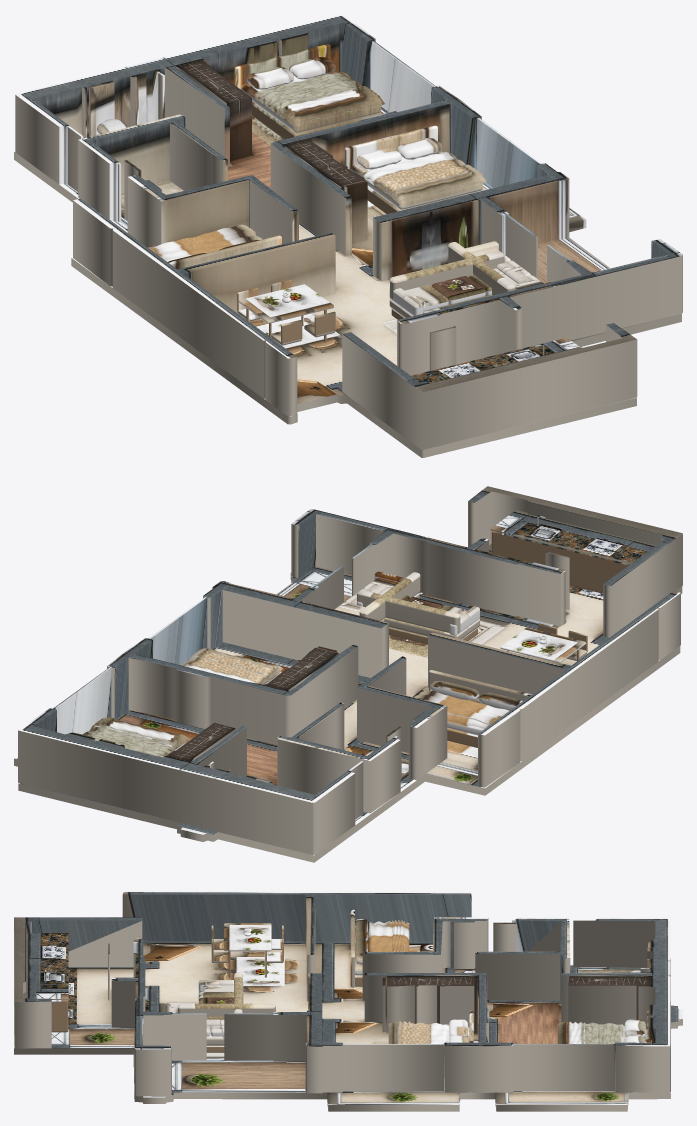
Rendered from p4-04-u04-2112-image-model.glb.
The picture shows the model from 3 angles, top to bottom: view 1: azimuth 30°, elevation 25°; view 2: azimuth 150°, elevation 25°; view 3: azimuth 270°, elevation 25°; orthographic projection. The views are drawn at different scales.
Parts seen in each view (by area): view 1: Partition walls, Apartment floor, Draped bed linen, Draped bed linen.002, Marble dining top, Sofa back, Stone worktop, Piped mattress, Draped bed linen.001, Upholstered headboard, Upholstered headboard.001, Piped mattress.001 (+12 smaller); view 2: Partition walls, Apartment floor, Kitchen cabinets, Stone worktop, Sofa back, Marble dining top, Draped bed linen, Draped bed linen.004, Draped bed linen.002, Sofa back.001, Draped bed linen.001, Upholstered headboard.002 (+3 smaller); view 3: Partition walls, Apartment floor, Stone worktop, Marble dining top, Sofa back.001, Draped bed linen, Draped bed linen.004, Draped bed linen.002, Kitchen cabinets, Draped bed linen.001, Draped bed linen.003, Draped bed linen.005 (+5 smaller).
Part boxes in pixels (x1,y1,x2,y2): Partition walls: (15,14,682,450); Apartment floor: (14,106,681,457); Draped bed linen: (252,71,384,124); Draped bed linen.002: (361,152,486,201); Marble dining top: (239,284,333,323); Sofa back: (390,251,504,299); Stone worktop: (411,337,579,383); Piped mattress: (241,70,381,132); Draped bed linen.001: (276,86,380,120); Upholstered headboard: (234,44,330,89); Upholstered headboard.001: (345,125,437,170); Piped mattress.001: (351,151,482,209); Partition walls: (18,486,682,854); Apartment floor: (14,544,682,862); Kitchen cabinets: (491,531,629,593); Stone worktop: (490,510,655,564); Sofa back: (357,590,460,633); Marble dining top: (500,627,586,662); Draped bed linen: (83,718,188,757); Draped bed linen.004: (414,690,509,728); Draped bed linen.002: (181,649,283,684); Sofa back.001: (359,572,420,620); Draped bed linen.001: (91,717,184,748); Upholstered headboard.002: (429,670,531,700); Partition walls: (14,891,670,1096); Apartment floor: (14,941,682,1111); Stone worktop: (23,933,68,999); Marble dining top: (224,923,271,951); Sofa back.001: (178,1003,275,1016); Draped bed linen: (557,1022,624,1043); Draped bed linen.004: (367,921,409,951); Draped bed linen.002: (388,1022,449,1043); Kitchen cabinets: (51,1000,68,1032); Draped bed linen.001: (564,1021,585,1043); Draped bed linen.003: (394,1021,413,1043); Draped bed linen.005: (392,920,404,951).
Size of the model in its own units: 8.77 by 1.3 by 14.85.
Materials: 13 (3 with a texture image).
